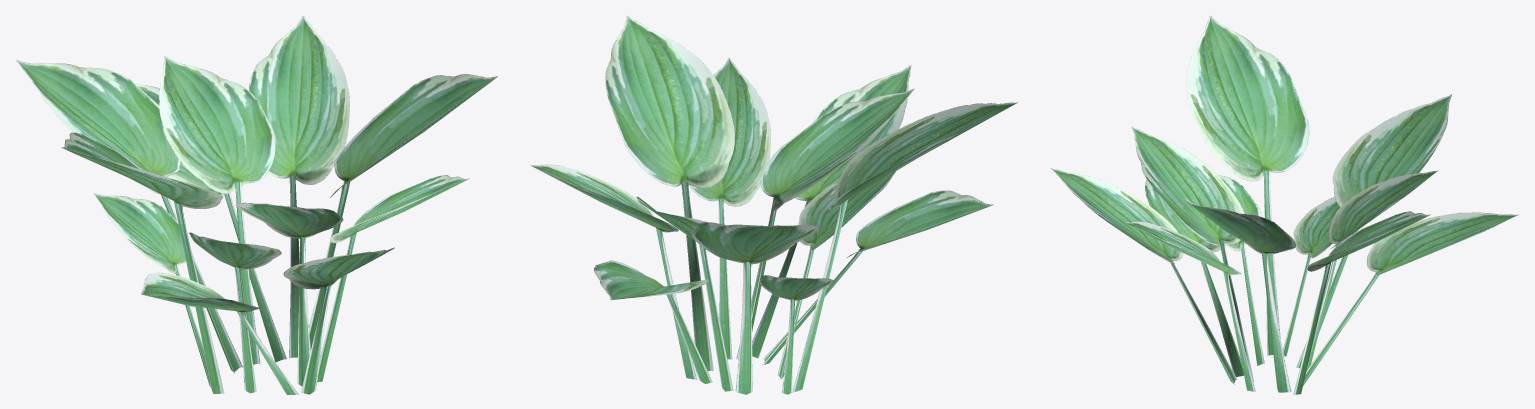
File: plant_small_wg_03L.fbx
3 views of the same model, side by side, from view 1: azimuth 30°, elevation 25°; view 2: azimuth 150°, elevation 25°; view 3: azimuth 270°, elevation 25° (orthographic). The views are drawn at different scales.
Visible parts, largest first — view 1: plant_small_wg_03L; view 2: plant_small_wg_03L; view 3: plant_small_wg_03L.
Boxes of the visible parts, bbox=[...] form: plant_small_wg_03L: bbox=[16, 16, 497, 394]; plant_small_wg_03L: bbox=[530, 15, 1017, 394]; plant_small_wg_03L: bbox=[1050, 15, 1518, 394].
Size of the model in its own units: 69.57 by 50.08 by 81.54.
